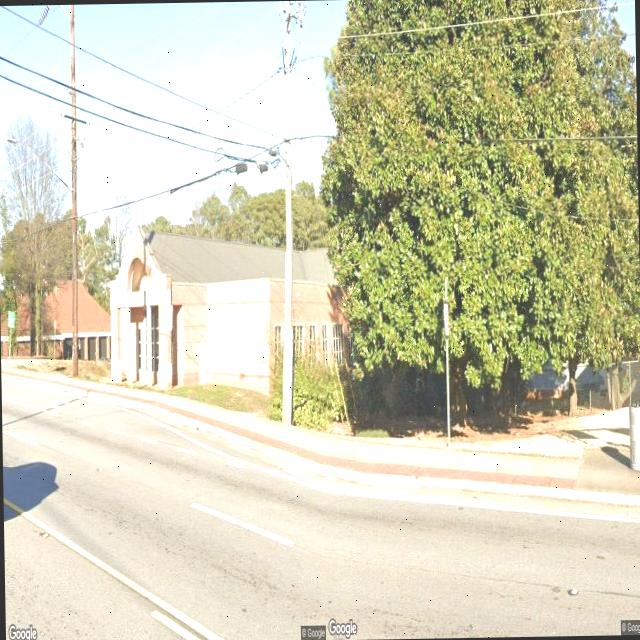trash_can: (628, 405, 640, 468)
